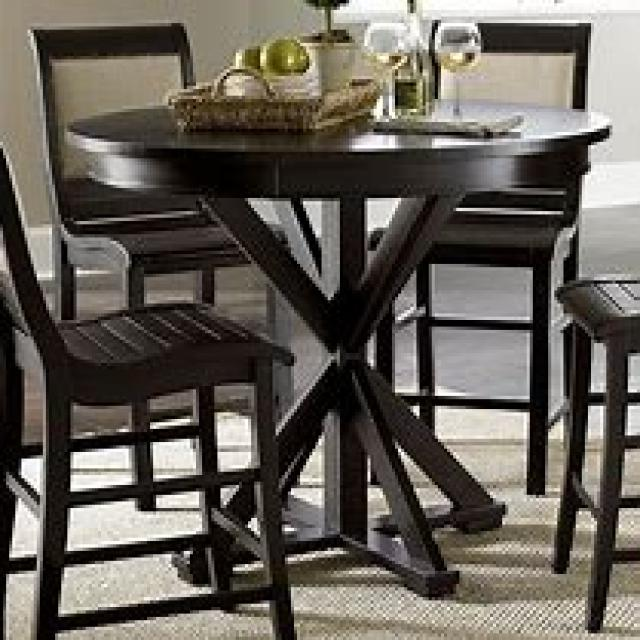chair: (0, 125, 300, 637), (364, 16, 591, 495)
table: (65, 92, 612, 597)
